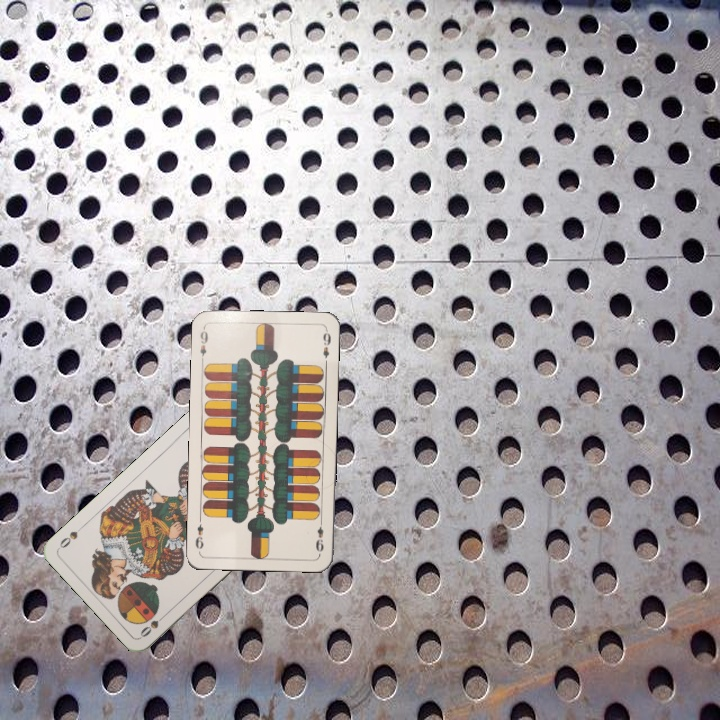E9: (196, 324, 211, 364), (312, 515, 326, 556)
SO: (136, 608, 170, 640)
